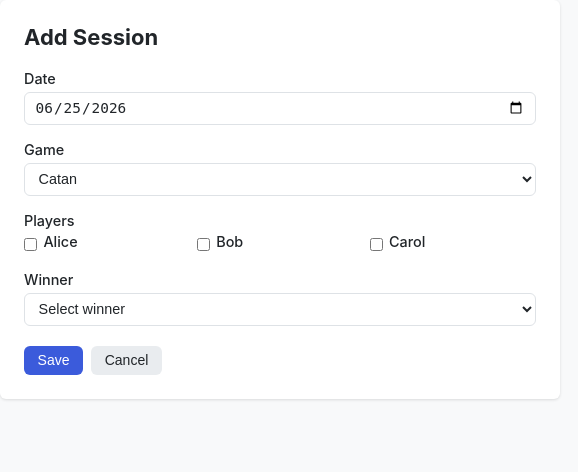
SessionForm › displays warning banner when API response includes warning
The image size is (578, 472).
Click the checkbox labelled "Alice" at (30, 244), box [24,238,37,251]
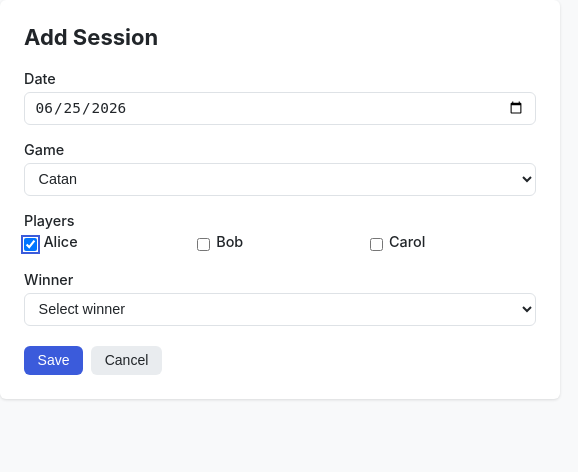
Select "Alice" in the dropdown labelled "Winner" at (280, 309), box [24,293,536,326]
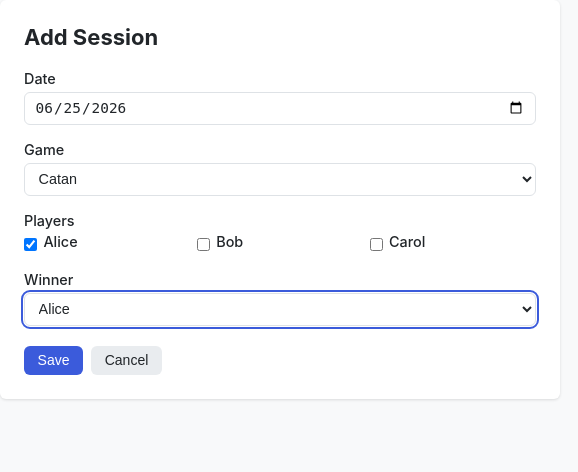
Click the button "Save" at (54, 360), box [24,346,83,374]
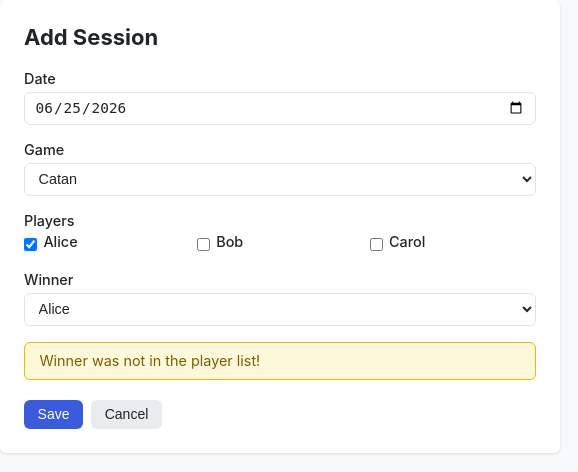
Check: the text "Winner was not in the player list!" is shown, box [24,342,536,380]
